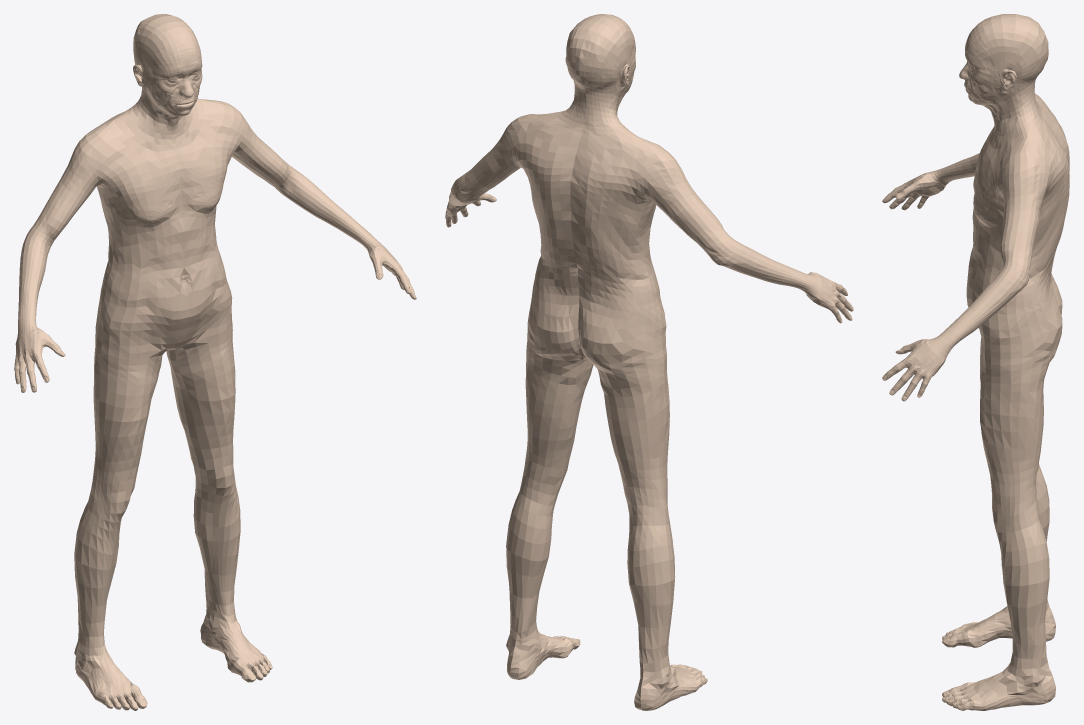
File: male-older-lean-high.glb
The picture shows the model from 3 angles, left to right: view 1: azimuth 30°, elevation 25°; view 2: azimuth 150°, elevation 25°; view 3: azimuth 270°, elevation 25°; orthographic projection.
Visible parts, largest first — view 1: world; view 2: world; view 3: world.
Part boxes in pixels (x1,y1,x2,y2): world: (14, 14, 416, 710); world: (445, 14, 853, 710); world: (882, 14, 1069, 710).
Bounding box in the file's own units: 1.21 × 1.93 × 0.4993.
